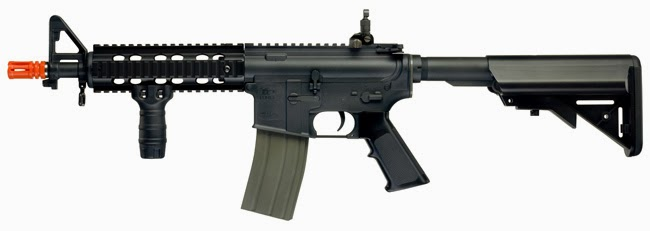Arma Falsa: (3, 9, 647, 220)
